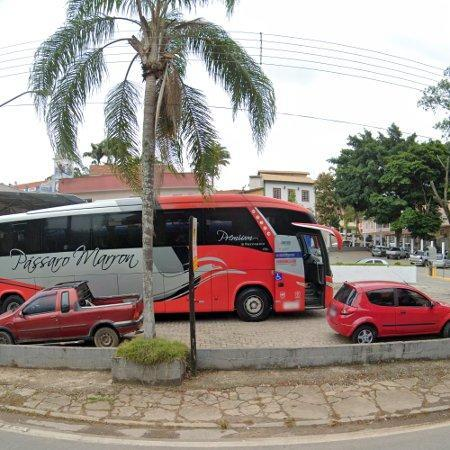buses: (0, 199, 141, 297)
